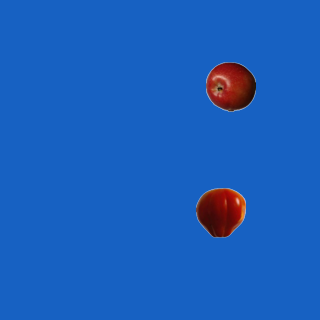Apple Braeburn: (205, 61, 255, 111)
Tomato 1: (195, 187, 245, 237)
